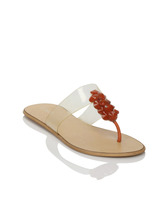shoes: (25, 89, 153, 165)
